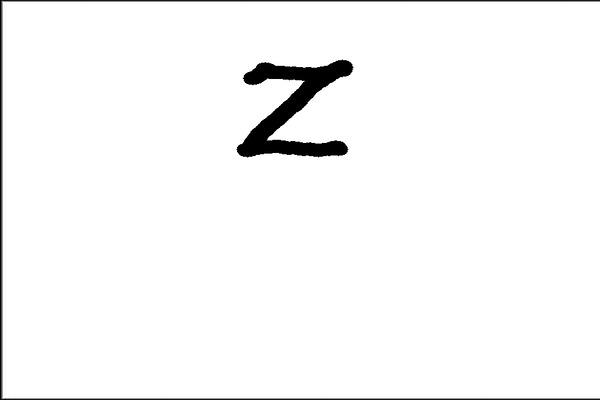Z: (232, 56, 363, 161)
